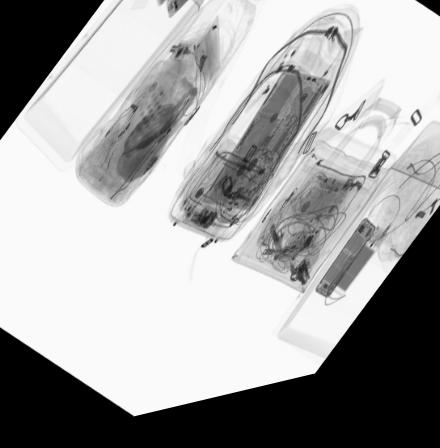Powerbank: (327, 241, 390, 316)
